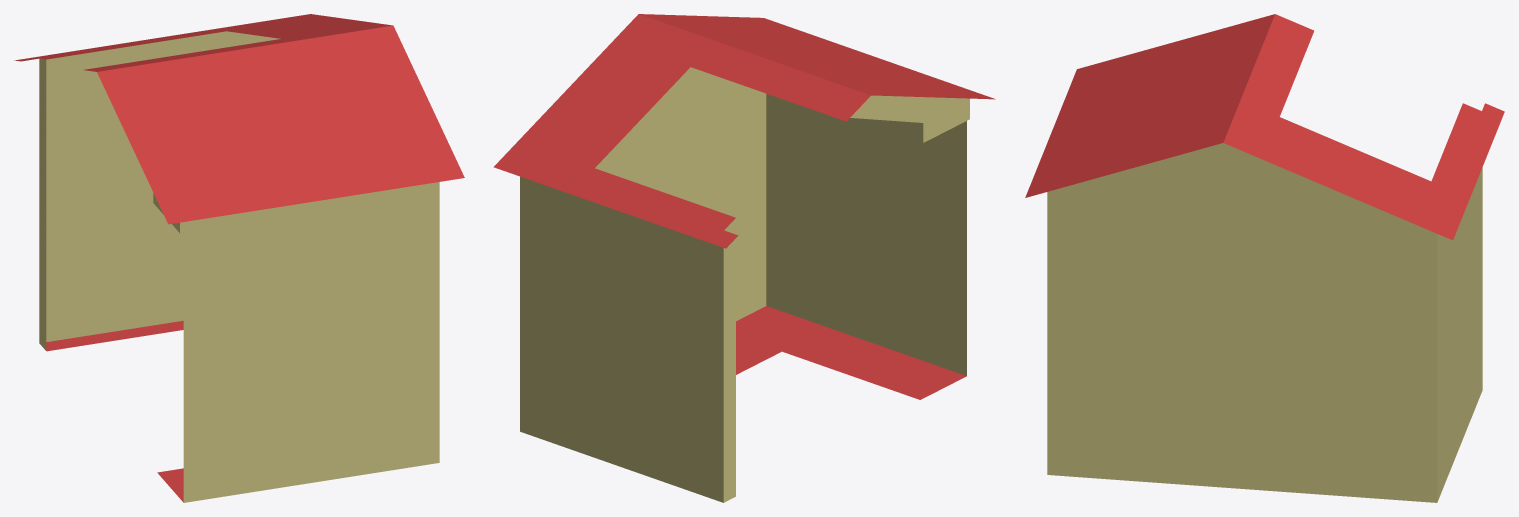
3 renders of one model, left to right at view 1: azimuth 30°, elevation 25°; view 2: azimuth 150°, elevation 25°; view 3: azimuth 270°, elevation 25°, orthographic. The views are drawn at different scales.
Bounding box in the file's own units: 9.82 × 12.46 × 10.12.
